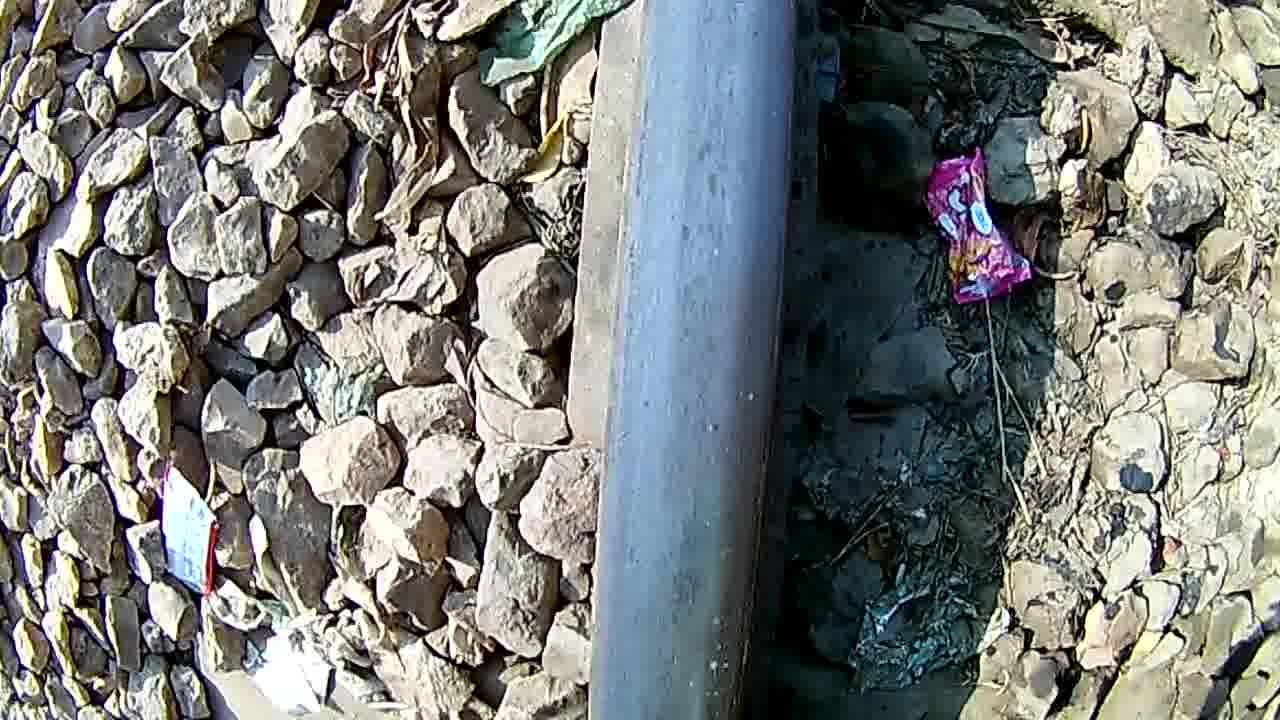bolt_missing: (631, 106, 776, 666)
